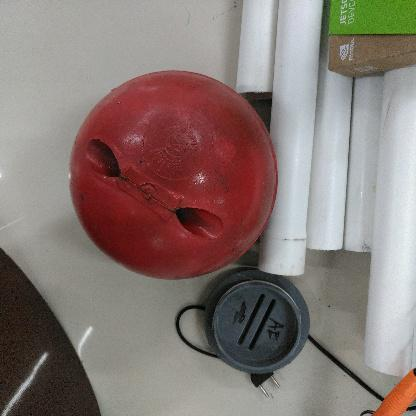red_buoy: (69, 68, 280, 283)
